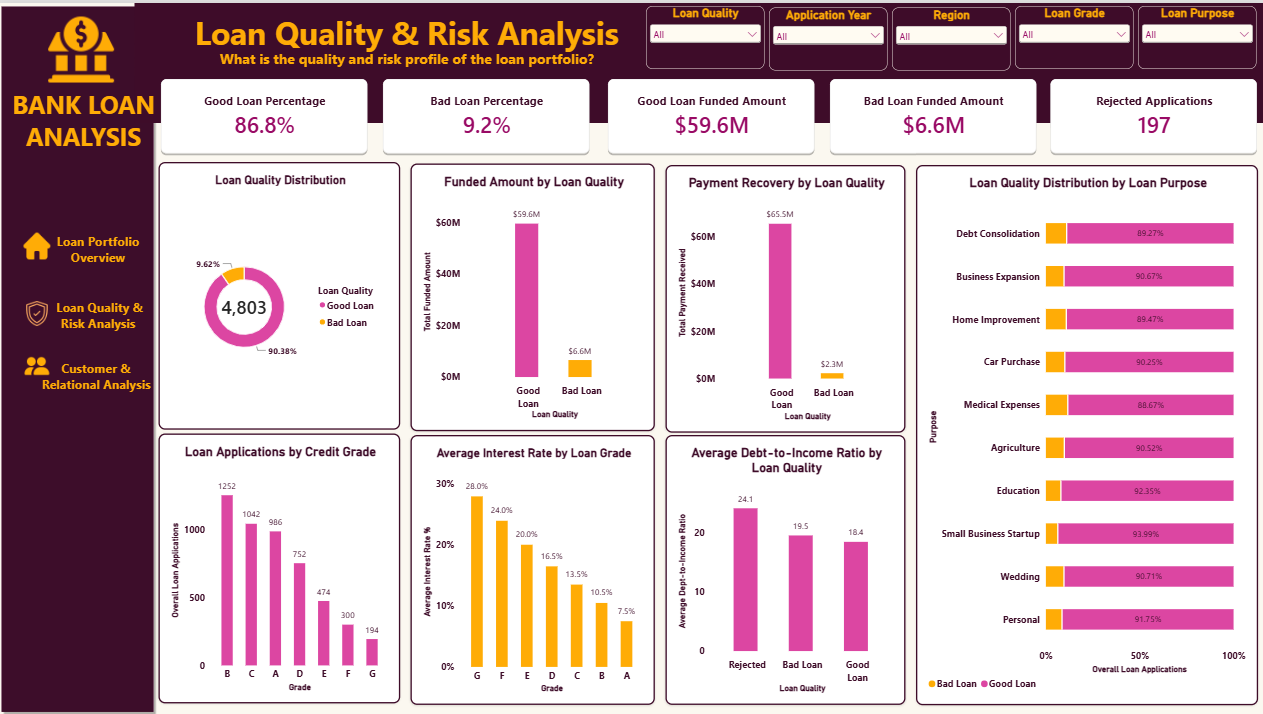

This screenshot's page, from the dashboard's own definition file:
{"tool":"powerbi","page":{"name":"Loan Quality & Risk Analysis","canvas":[1920,1080],"ordinal":1},"visuals":[{"type":"shape","box":[0,0,240.8,1078.9],"z":0},{"type":"shape","box":[206.7,0,1712.6,181.7],"z":1000},{"type":"textbox","box":[227.1,0,783.6,109],"z":2000},{"type":"slicer","title":"Application Year","fields":{"Values":["Date_Table.Year"]},"box":[1167.5,6.8,179.4,95.4],"z":3000},{"type":"slicer","title":"Region","fields":{"Values":["Bank_Loan_Dataset.Region"]},"box":[1353.7,6.8,179.4,95.4],"z":4000},{"type":"slicer","title":"Loan Grade","fields":{"Values":["Bank_Loan_Dataset.Grade"]},"box":[1539.9,4.5,179.4,95.4],"z":5000},{"type":"slicer","title":"Loan Purpose","fields":{"Values":["Bank_Loan_Dataset.Purpose"]},"box":[1726.2,4.5,179.4,95.4],"z":6000},{"type":"textbox","box":[34.1,347.5,193.1,95.4],"z":7000},{"type":"textbox","box":[34.1,447.4,193.1,77.2],"z":8000},{"type":"image","box":[65.9,20.4,120,100],"z":9000},{"type":"image","box":[38.6,343,40.9,50],"z":10000},{"type":"image","box":[38.6,445.2,40.9,50],"z":11000},{"type":"image","box":[38.6,524.7,40.9,50],"z":12000},{"type":"textbox","box":[56.8,540.6,184,134],"z":13000},{"type":"cardVisual","fields":{"Data":["Dax Measures.Good Loan Percentage"]},"box":[243,111,320,120],"z":14000},{"type":"cardVisual","fields":{"Data":["Dax Measures.Bad Loan Percentage"]},"box":[579.2,111,320,120],"z":15000},{"type":"cardVisual","fields":{"Data":["Dax Measures.Good Loan Funded Amount"]},"box":[919,111,320,120],"z":16000},{"type":"cardVisual","fields":{"Data":["Dax Measures.Bad Loan Funded Amount"]},"box":[1256,111,320,120],"z":17000},{"type":"cardVisual","fields":{"Data":["Dax Measures.Rejected Applications"]},"box":[1589.9,111,320,120],"z":18000},{"type":"donutChart","title":"Loan Quality Distribution","fields":{"Category":["Bank_Loan_Dataset.Loan_Quality"],"Y":["Dax Measures.Total Loan Applications"]},"box":[243,240.8,365.7,405],"z":19000},{"type":"clusteredColumnChart","title":"Funded Amount by Loan Quality","fields":{"Category":["Bank_Loan_Dataset.Loan_Quality"],"Y":["Dax Measures.Total Funded Amount"]},"box":[624,243,370.2,405],"z":20000},{"type":"clusteredColumnChart","title":"Payment Recovery by Loan Quality","fields":{"Category":["Bank_Loan_Dataset.Loan_Quality"],"Y":["Dax Measures.Total Payment Received"]},"box":[1009.9,245.3,363.4,405],"z":21000},{"type":"clusteredColumnChart","title":"Loan Applications by Credit Grade","fields":{"Category":["Bank_Loan_Dataset.Grade"],"Y":["Dax Measures.Total Loan Applications"]},"box":[243,651.9,365.7,408.8],"z":22000},{"type":"lineClusteredColumnComboChart","title":"Average Interest Rate by Loan Grade","fields":{"Category":["Bank_Loan_Dataset.Grade"],"Y":["Dax Measures.Average Interest Rate %"]},"box":[624.6,654.1,370.2,408.8],"z":23000},{"type":"clusteredColumnChart","title":"Average Debt-to-Income Ratio by Loan Quality","fields":{"Category":["Bank_Loan_Dataset.Loan_Quality"],"Y":["Dax Measures.Average DTI"]},"box":[1009.9,654.1,363.4,408.8],"z":24000},{"type":"hundredPercentStackedBarChart","title":"Loan Quality Distribution by Loan Purpose","fields":{"Category":["Bank_Loan_Dataset.Purpose"],"Series":["Bank_Loan_Dataset.Loan_Quality"],"Y":["Dax Measures.Total Loan Applications"]},"box":[1390,245.3,517.9,817.7],"z":25000},{"type":"slicer","title":"Loan Quality","fields":{"Values":["Bank_Loan_Dataset.Loan_Quality"]},"box":[981.2,4.5,179.4,95.4],"z":26000},{"type":"textbox","box":[15.9,118.1,227.1,127.2],"z":27000}]}

Visuals, with their boxes in screenshot pixels (x1, y1, x2, y2), scaled from the page's 1920x1080 canvas onto the 1263x714 screenshot:
shape: 0 0 158 713
shape: 136 0 1262 120
textbox: 149 0 665 72
"Application Year" slicer: 768 4 886 68
"Region" slicer: 890 4 1008 68
"Loan Grade" slicer: 1013 3 1131 66
"Loan Purpose" slicer: 1136 3 1254 66
textbox: 22 230 149 293
textbox: 22 296 149 347
image: 43 13 122 80
image: 25 227 52 260
image: 25 294 52 327
image: 25 347 52 380
textbox: 37 357 158 446
cardVisual - Dax Measures.Good Loan Percentage: 160 73 370 153
cardVisual - Dax Measures.Bad Loan Percentage: 381 73 592 153
cardVisual - Dax Measures.Good Loan Funded Amount: 605 73 815 153
cardVisual - Dax Measures.Bad Loan Funded Amount: 826 73 1037 153
cardVisual - Dax Measures.Rejected Applications: 1046 73 1256 153
"Loan Quality Distribution" donutChart: 160 159 400 427
"Funded Amount by Loan Quality" clusteredColumnChart: 410 161 654 428
"Payment Recovery by Loan Quality" clusteredColumnChart: 664 162 903 430
"Loan Applications by Credit Grade" clusteredColumnChart: 160 431 400 701
"Average Interest Rate by Loan Grade" lineClusteredColumnComboChart: 411 432 654 703
"Average Debt-to-Income Ratio by Loan Quality" clusteredColumnChart: 664 432 903 703
"Loan Quality Distribution by Loan Purpose" hundredPercentStackedBarChart: 914 162 1255 703
"Loan Quality" slicer: 645 3 763 66
textbox: 10 78 160 162
